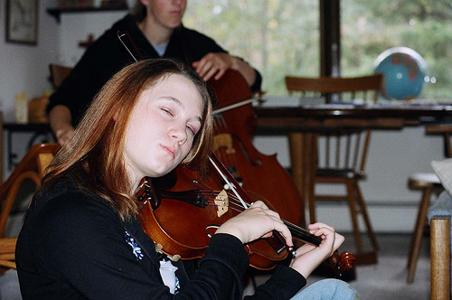person: (15, 61, 348, 300)
